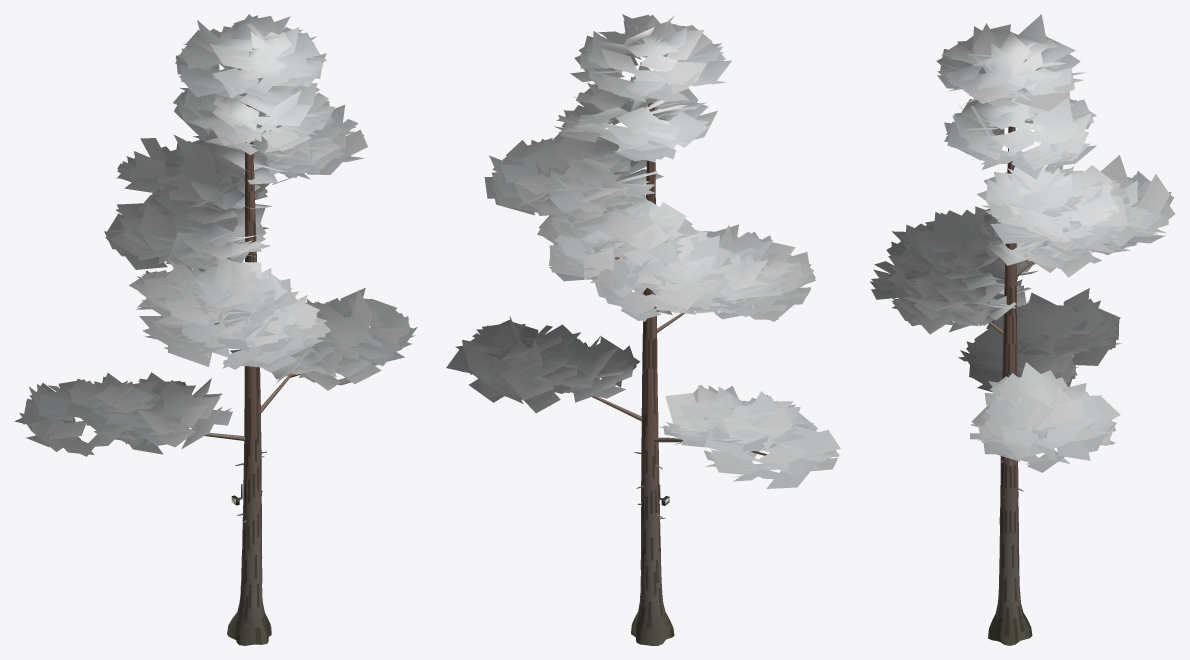
File: pine.glb
3 views of the same model, side by side, from view 1: azimuth 30°, elevation 25°; view 2: azimuth 150°, elevation 25°; view 3: azimuth 270°, elevation 25° (orthographic).
Visible parts, largest first — view 1: pine_a_leaves, pine_a; view 2: pine_a_leaves, pine_a; view 3: pine_a_leaves, pine_a.
Part boxes in pixels (box(x1,y1,x2,y2)): pine_a_leaves: box(14, 14, 417, 456); pine_a: box(86, 104, 299, 645); pine_a_leaves: box(446, 14, 840, 488); pine_a: box(570, 103, 767, 645); pine_a_leaves: box(870, 14, 1175, 472); pine_a: box(986, 126, 1045, 645).
Size of the model in its own units: 13.71 by 21.35 by 9.75.
